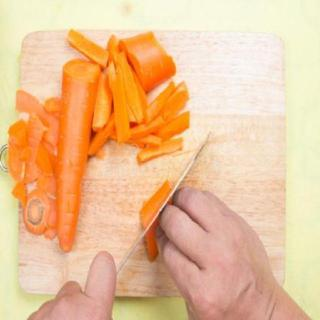carrot: (51, 58, 99, 254)
